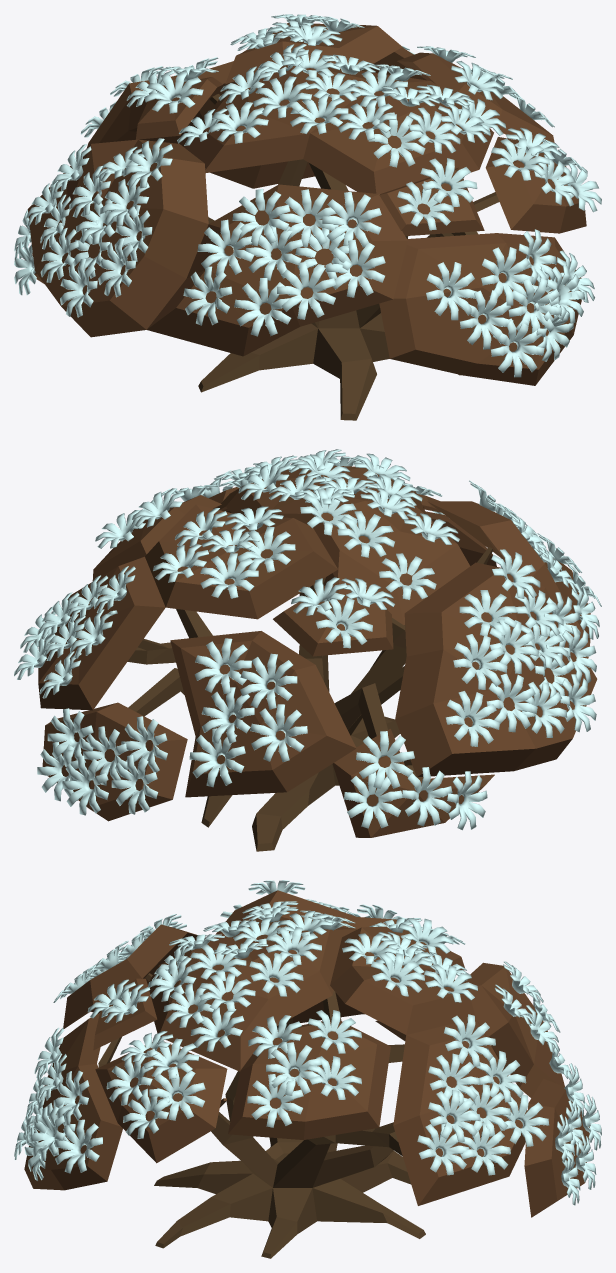
The model's file is Lantana.fbx.
3 renders of one model, top to bottom at view 1: azimuth 30°, elevation 25°; view 2: azimuth 150°, elevation 25°; view 3: azimuth 270°, elevation 25°, orthographic. The views are drawn at different scales.
Parts seen in each view (by area): view 1: Lantana; view 2: Lantana; view 3: Lantana.
Boxes of the visible parts, box(x1,y1,x2,y2) form: Lantana: box(14, 14, 601, 420); Lantana: box(14, 449, 601, 851); Lantana: box(14, 880, 601, 1258).
Size of the model in its own units: 598 by 362 by 659.
